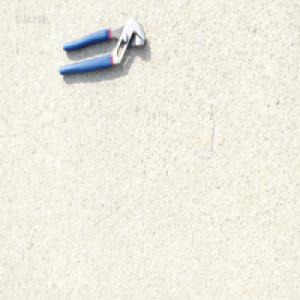Pliers: (58, 16, 146, 78)
